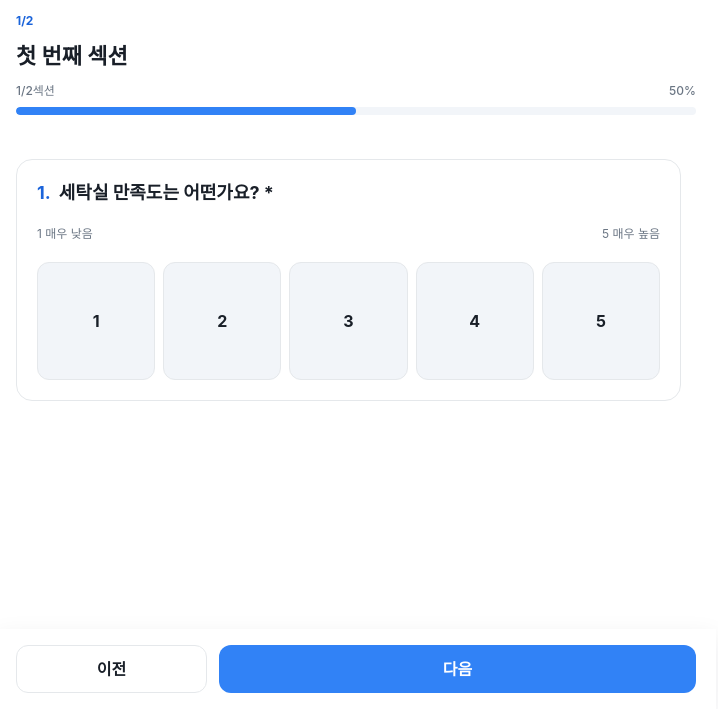
Test: SurveySectionPage › scrolls the section body to the top when moving to the next section
This screenshot has width=718, height=709.
Expected: the text "세탁실 만족도는 어떤가요?" is shown, [59,182,260,203]
Expected: the element with class "survey-section-page__body" is shown, [16,159,681,401]
Click the button "5": (601, 321) [542,262,660,380]
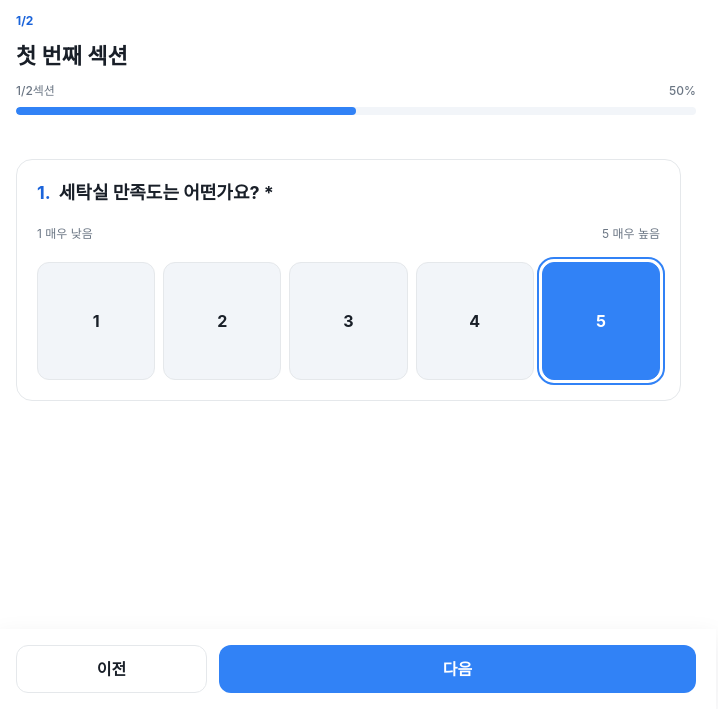
Click the button "다음": (457, 669) [219,645,696,693]
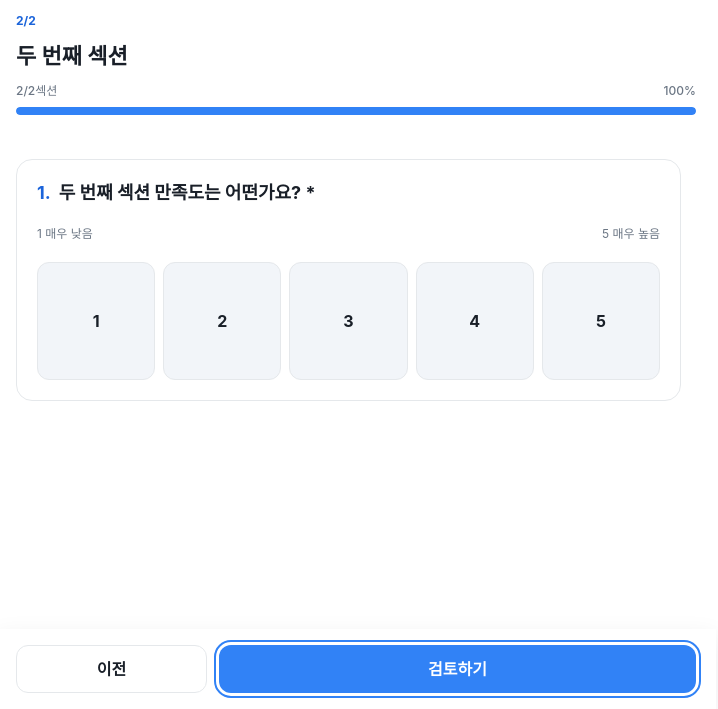
Expected: the text "두 번째 섹션 만족도는 어떤가요?" is shown, [59,182,301,203]
